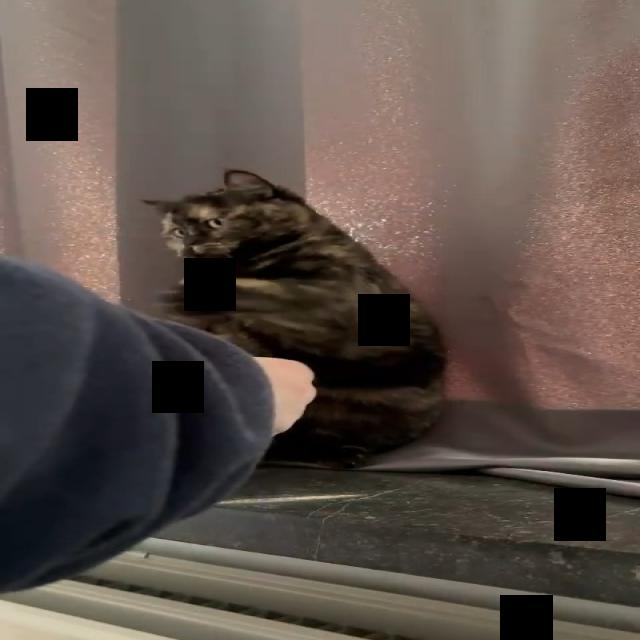authorized: (140, 168, 449, 470)
